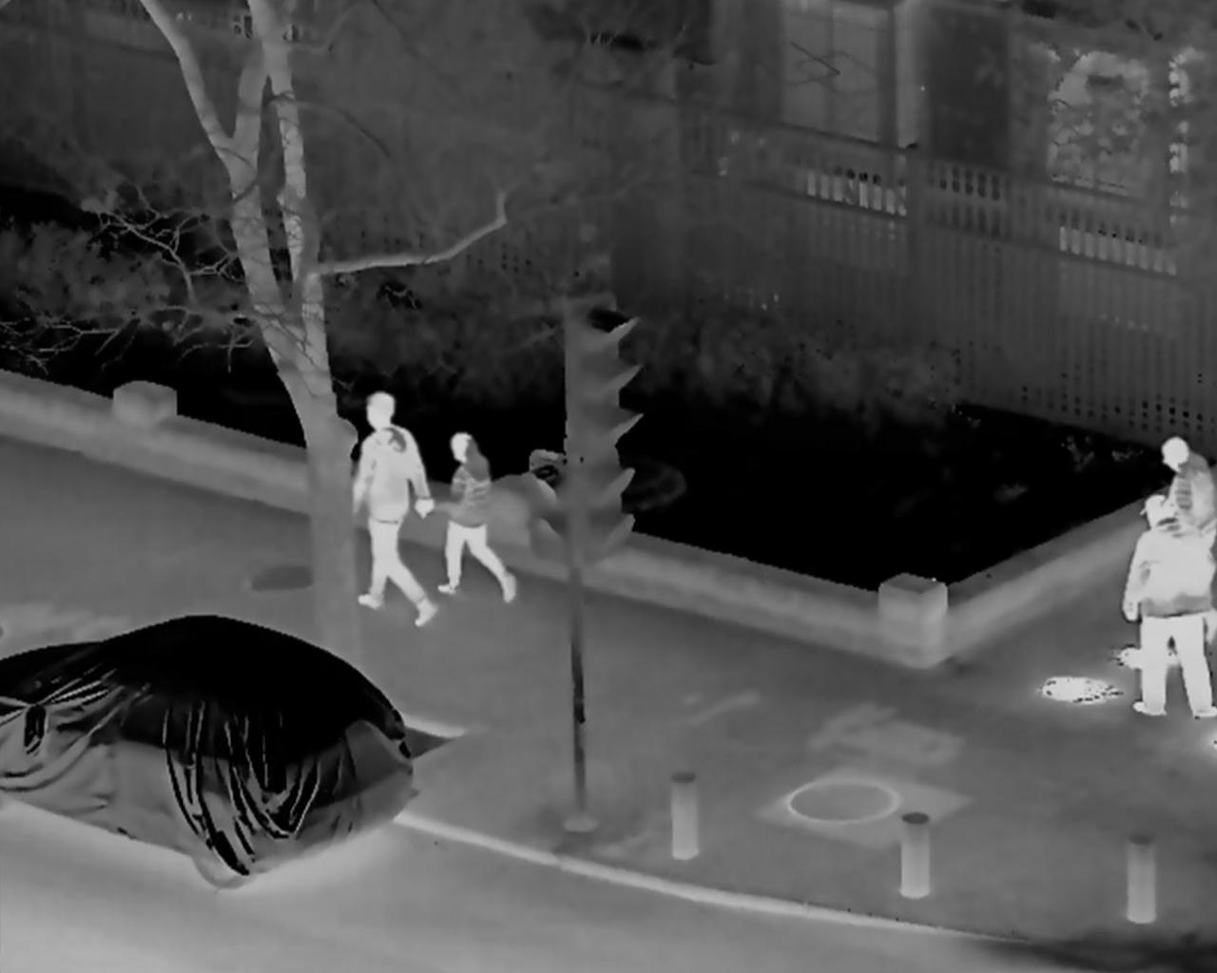person: (1122, 497, 1214, 723), (351, 391, 435, 629), (1141, 443, 1217, 639), (430, 433, 516, 604)
